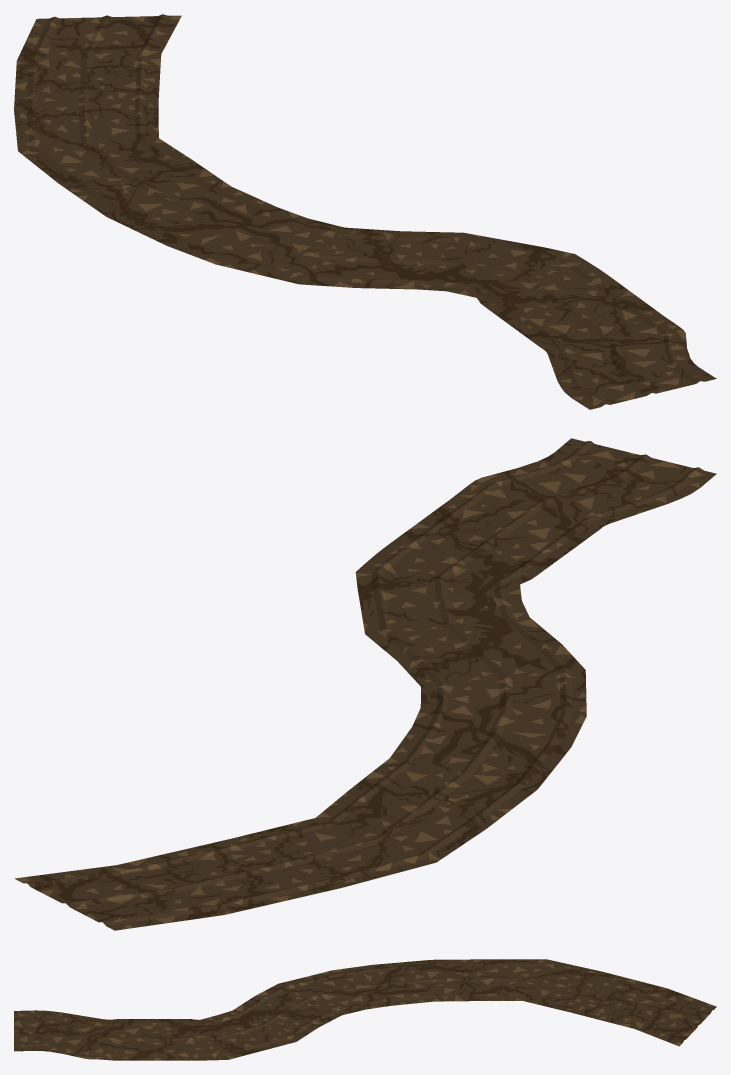
Rendered from SM_Env_Road_Dirt_Swerve_02.fbx.
The picture shows the model from 3 angles, top to bottom: view 1: azimuth 30°, elevation 25°; view 2: azimuth 150°, elevation 25°; view 3: azimuth 270°, elevation 25°; orthographic projection. The views are drawn at different scales.
Visible parts, largest first — view 1: Plane.001; view 2: Plane.001; view 3: Plane.001.
Part boxes in pixels (x1=…): Plane.001: x1=14, y1=14, x2=716, y2=409; Plane.001: x1=14, y1=438, x2=716, y2=930; Plane.001: x1=14, y1=959, x2=716, y2=1060.
Bounding box in the file's own units: 1752 × 34.46 × 5139.
